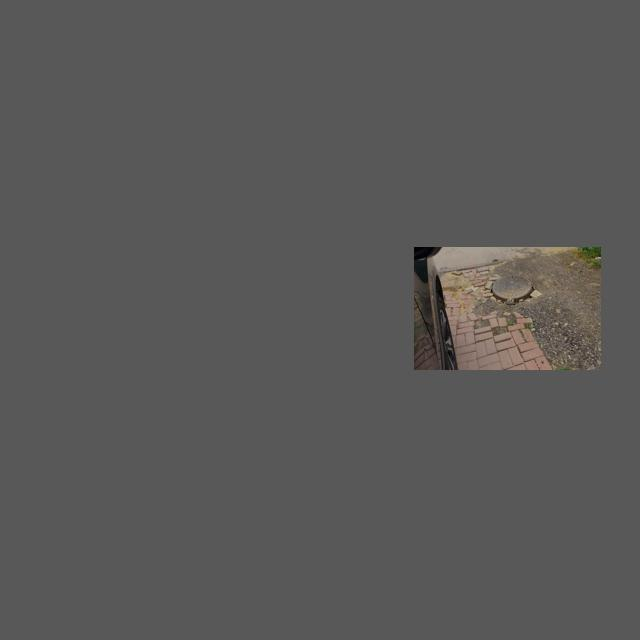circle: (476, 266, 547, 315)
